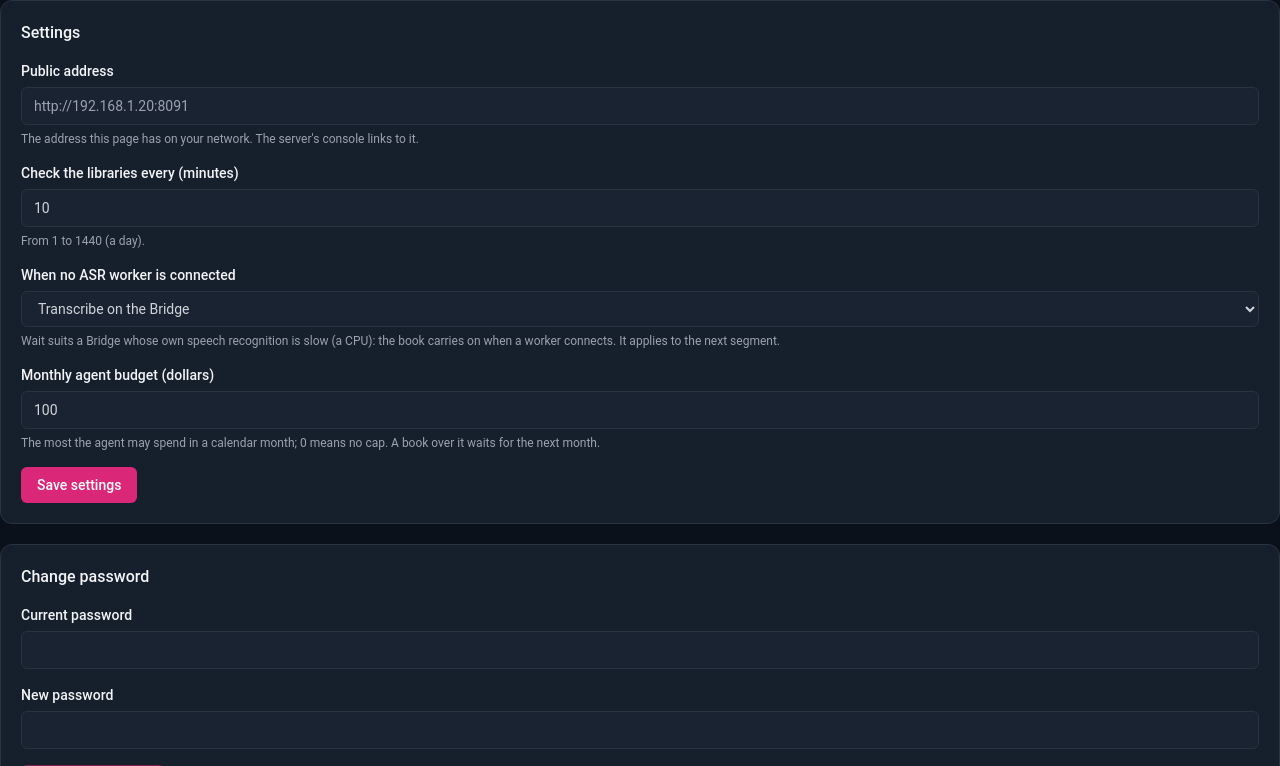
Scenario: SettingsTab › saves the ASR fallback, and keeps a locked one
The image size is (1280, 766).
Select "Wait for a worker" in the dropdown labelled "When no ASR worker is connected" at (640, 309), box [21, 291, 1259, 327]
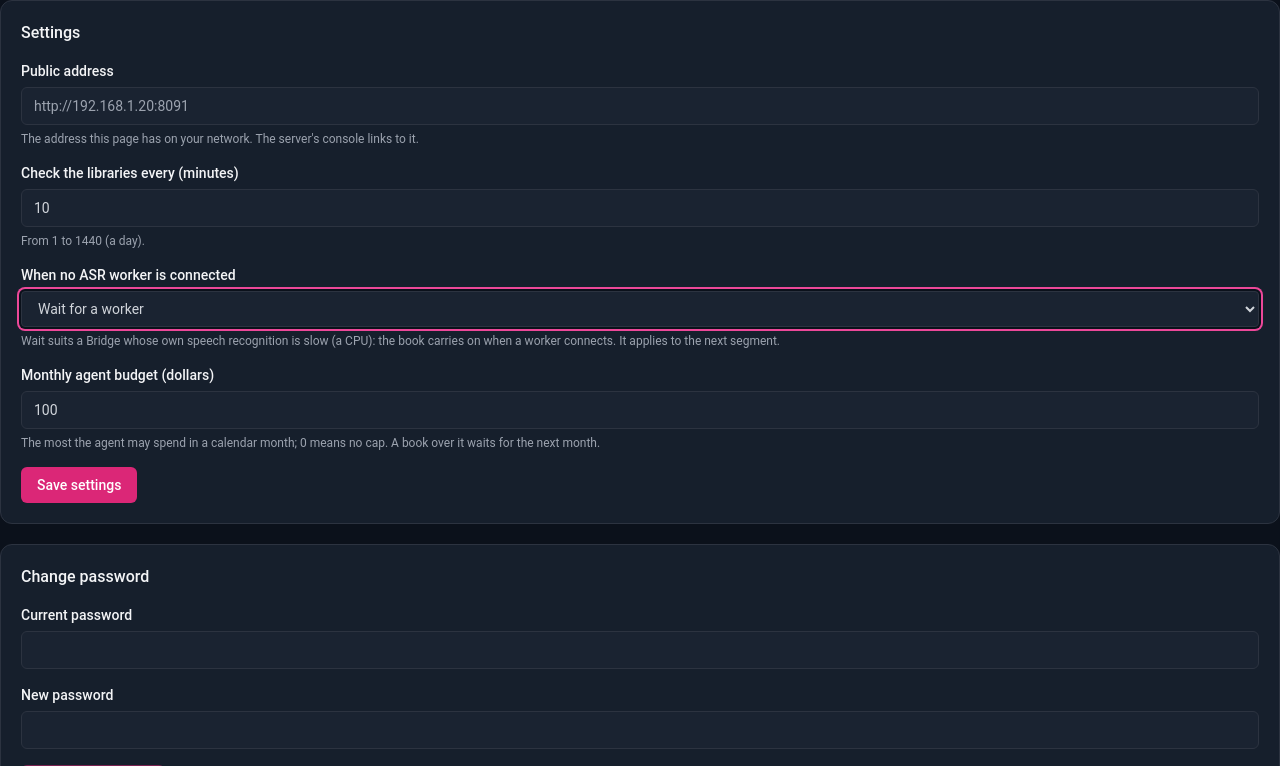
Click the button "Save settings".
click(79, 485)  # box [21, 467, 137, 503]
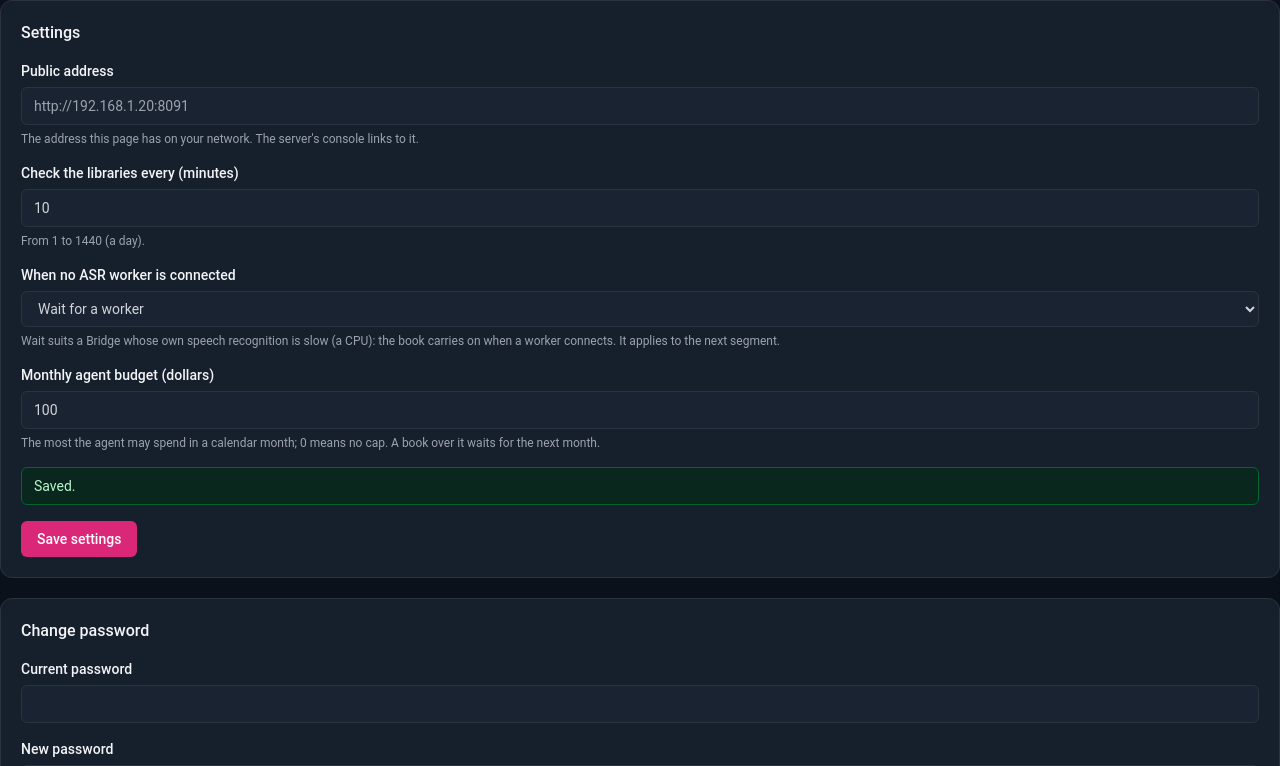
Check: the text "Saved." is shown, box [21, 467, 1259, 505]
